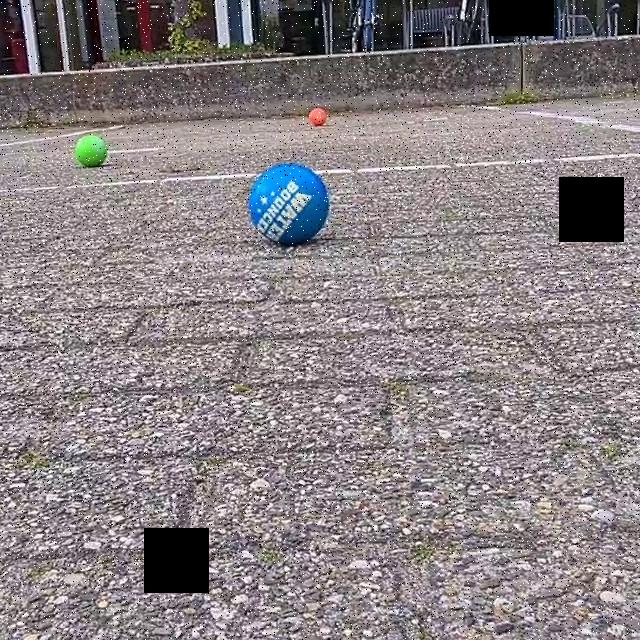ball: (72, 132, 110, 171), (308, 105, 330, 130)
